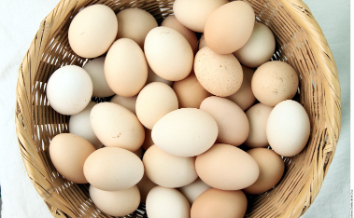egg: (148, 102, 222, 162), (54, 1, 128, 60), (188, 1, 262, 57), (190, 140, 265, 192), (186, 95, 259, 147), (136, 26, 201, 84), (183, 41, 249, 96), (44, 127, 99, 192), (261, 95, 317, 154), (90, 98, 147, 155), (81, 143, 148, 189), (102, 34, 150, 96), (242, 56, 305, 102), (43, 61, 95, 115)
